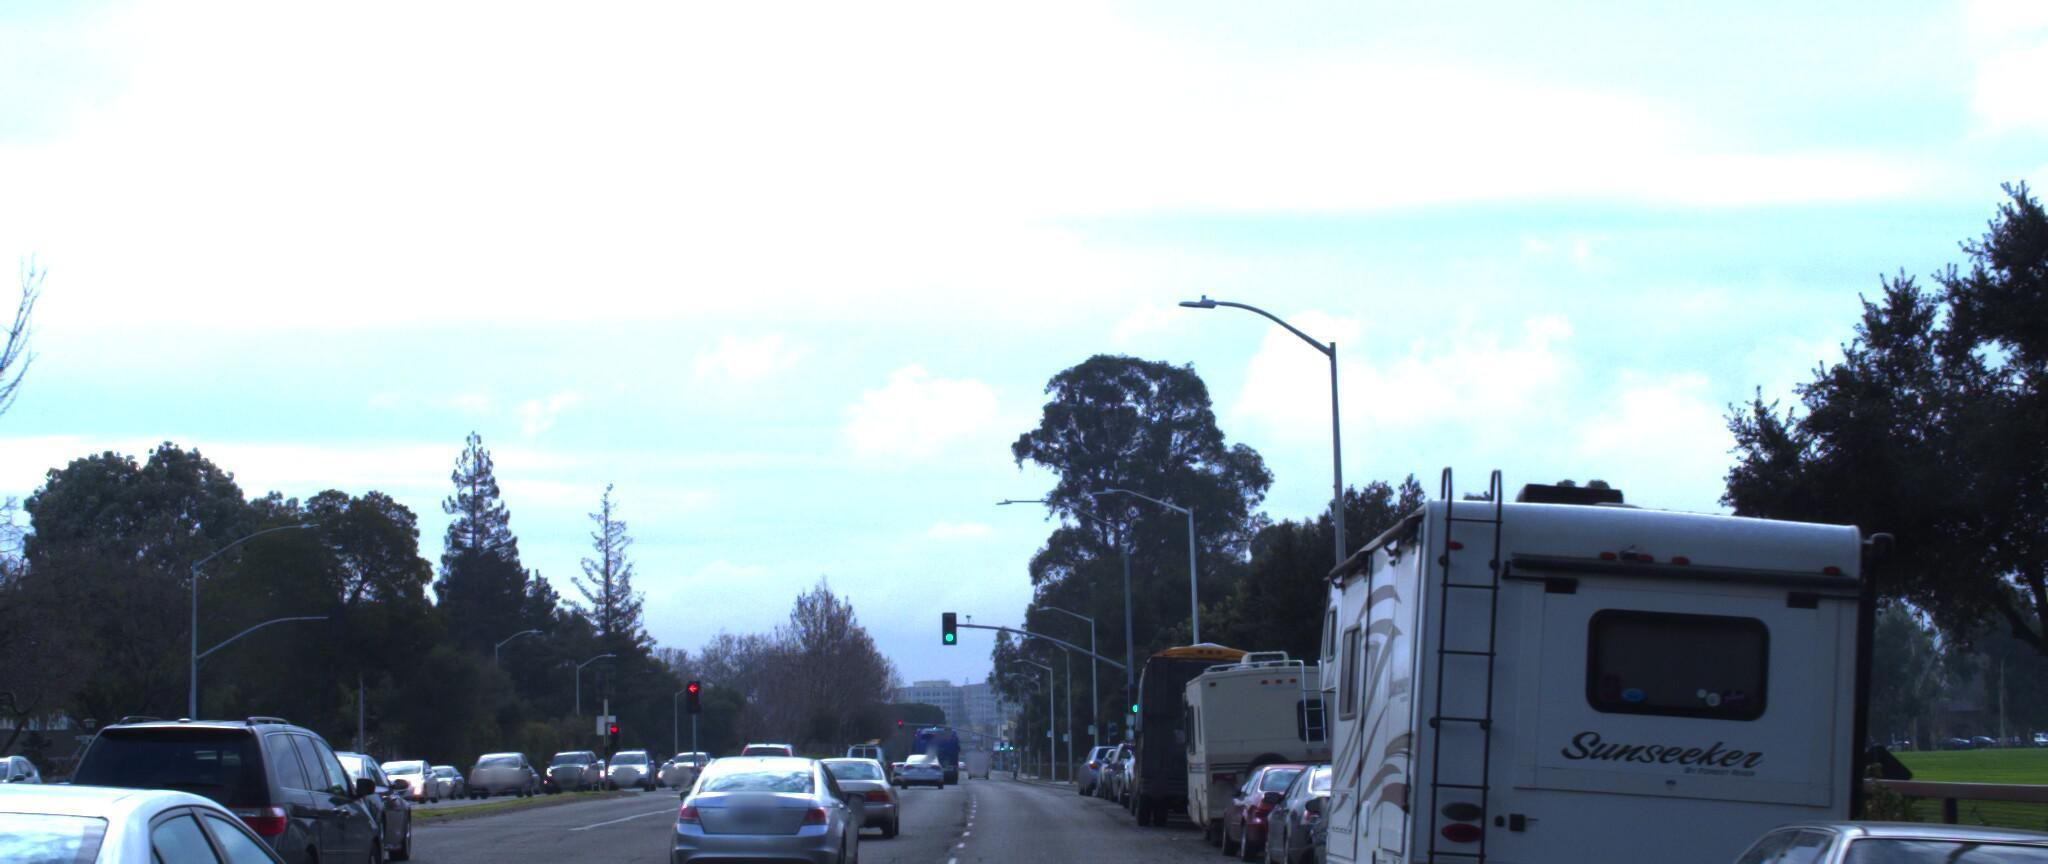bus: (1123, 624, 1279, 809)
car: (35, 703, 421, 864), (0, 737, 434, 864), (1558, 773, 2048, 864), (650, 736, 870, 864), (1249, 735, 1447, 864), (235, 743, 428, 864), (1206, 737, 1371, 846), (785, 743, 901, 831), (1906, 797, 2048, 864)
other_vehicle: (1272, 442, 1923, 864), (1170, 640, 1371, 827)
